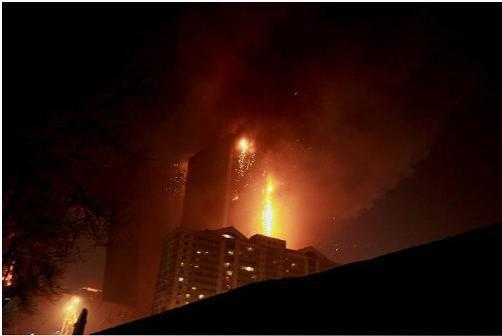fire: (253, 161, 285, 233), (235, 124, 254, 153)
